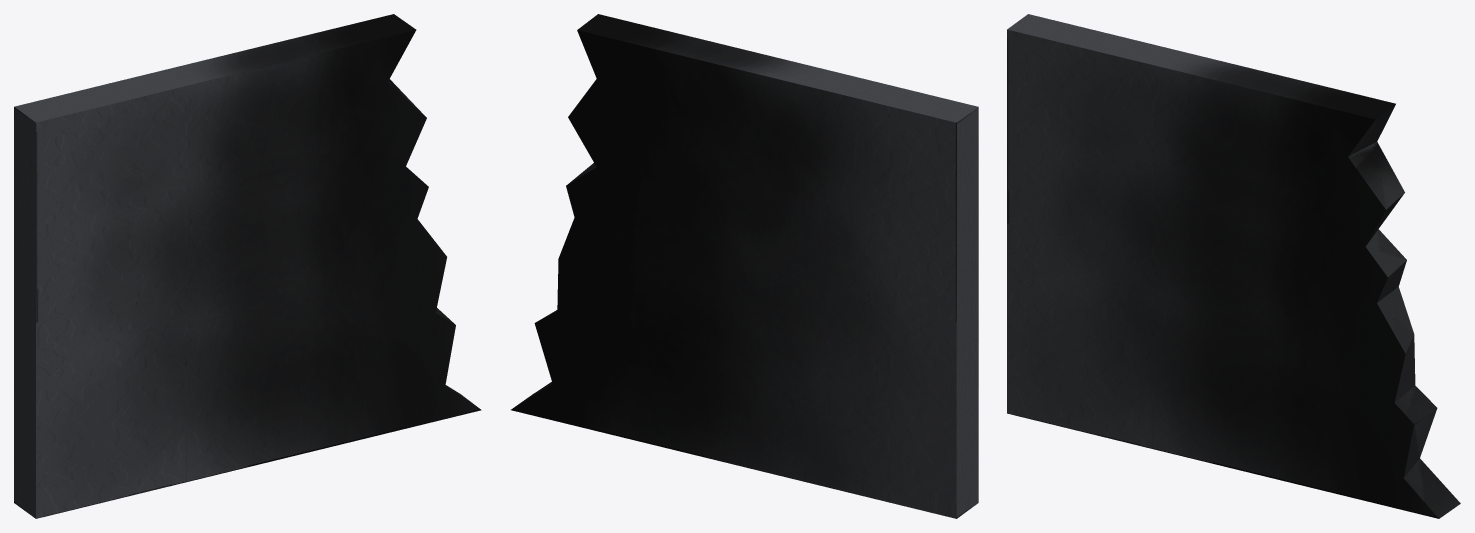
File: metalWallSmallDamaged.fbx
3 renders of one model, left to right at view 1: azimuth 30°, elevation 25°; view 2: azimuth 150°, elevation 25°; view 3: azimuth 330°, elevation 25°, orthographic. The views are drawn at different scales.
Visible parts, largest first — view 1: Cube.009; view 2: Cube.009; view 3: Cube.009.
Boxes of the visible parts, left/top/right/bottom form: Cube.009: left=14, top=14, right=481, bottom=518; Cube.009: left=511, top=14, right=978, bottom=518; Cube.009: left=1007, top=14, right=1460, bottom=518.
Size of the model in its own units: 354 by 300 by 30.
